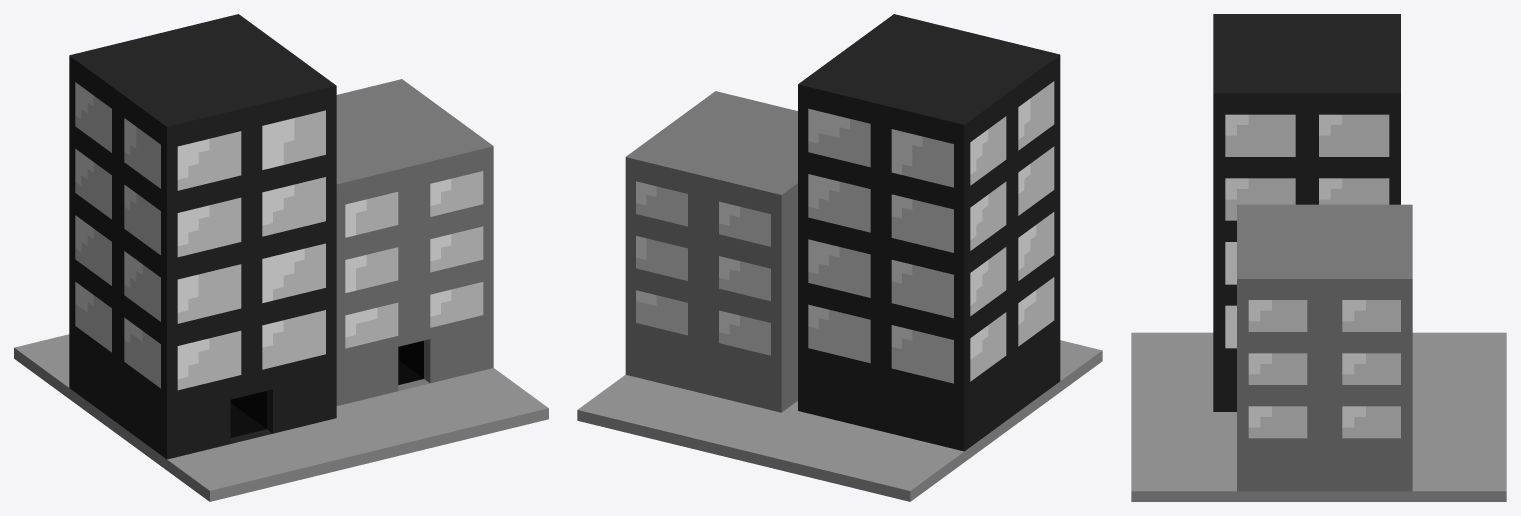
Rendered from Building_D.obj.
3 renders of one model, left to right at view 1: azimuth 30°, elevation 25°; view 2: azimuth 150°, elevation 25°; view 3: azimuth 270°, elevation 25°, orthographic. The views are drawn at different scales.
Bounding box in the file's own units: 3.2 × 3.1 × 3.2.
Materials: 1 (1 with a texture image).
